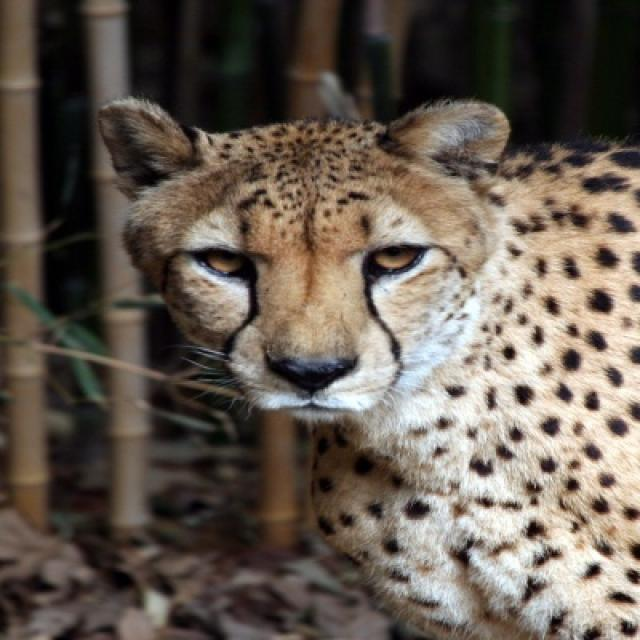Cheetah: (99, 98, 638, 638)
